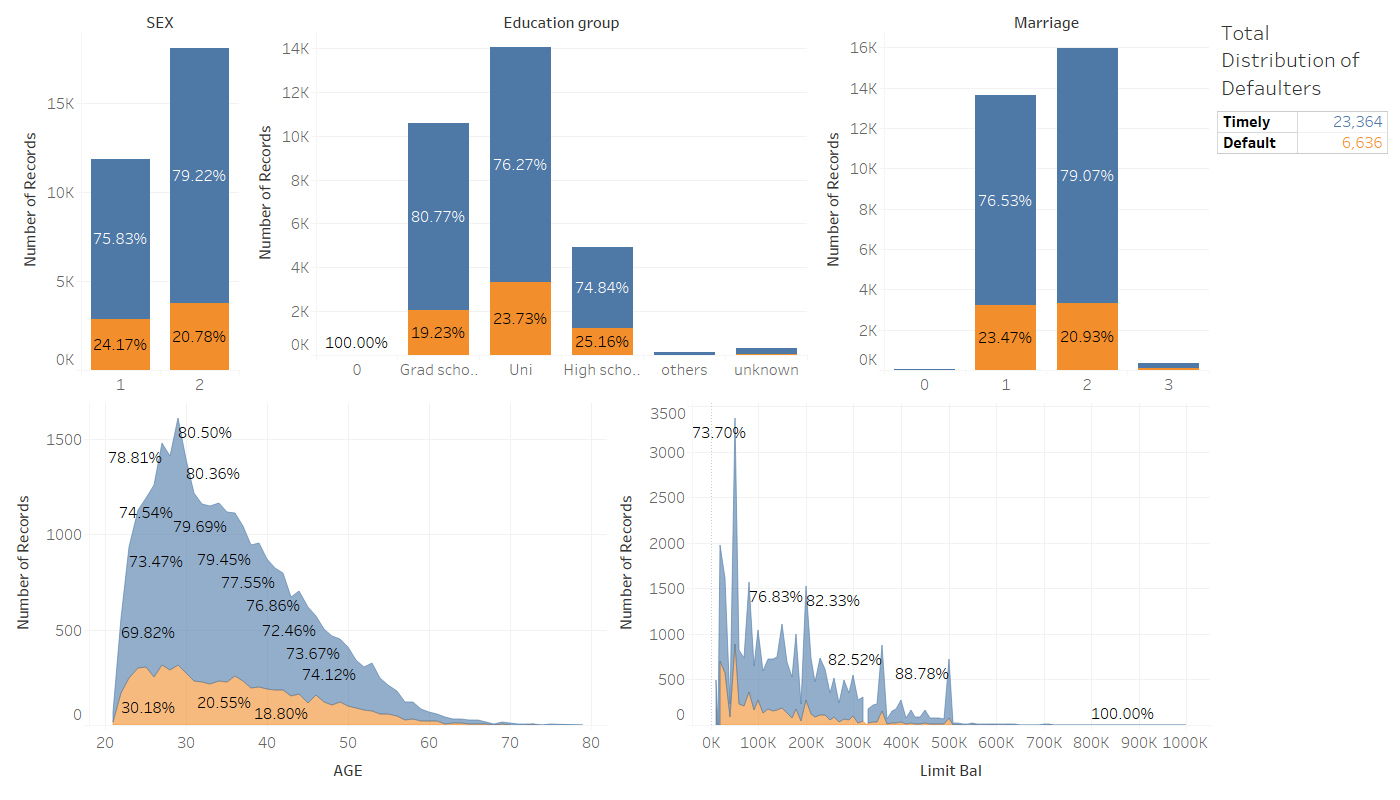

What the dashboard file says about the page in this screenshot:
{"tool":"tableau","page":{"name":"Distribution","canvas":[1400,800],"ordinal":1},"visuals":[{"type":"worksheet","title":"Sheet 34","mark":"Automatic","rows":["Number of Records"],"cols":["SEX"],"box":[8,8,235.3,391.2]},{"type":"worksheet","title":"Sheet 35","mark":"Automatic","rows":["Number of Records"],"cols":["Calculation_674977060939747328"],"box":[243.3,8,568,391.2]},{"type":"worksheet","title":"Sheet 39","mark":"Automatic","rows":["Number of Records"],"cols":["MARRIAGE"],"box":[811.3,8,401.6,391.2]},{"type":"worksheet","title":"Sheet 40","mark":"Automatic","rows":["default.payment.next.month"],"box":[1213,8,179,150]},{"type":"worksheet","title":"Sheet 37","mark":"Area","rows":["Number of Records"],"cols":["AGE"],"box":[8,399.2,602.5,392.8]},{"type":"worksheet","title":"Sheet 38","mark":"Area","rows":["Number of Records"],"cols":["LIMIT_BAL"],"box":[610.5,399.2,602.5,392.8]}]}

Visuals, with their boxes in screenshot pixels (x1, y1, x2, y2), scaled from the page's 1400x800 canvas onto the 1400x800 screenshot:
"Sheet 34" worksheet: BBox(8, 8, 243, 399)
"Sheet 35" worksheet: BBox(243, 8, 811, 399)
"Sheet 39" worksheet: BBox(811, 8, 1213, 399)
"Sheet 40" worksheet: BBox(1213, 8, 1392, 158)
"Sheet 37" worksheet (Area marks): BBox(8, 399, 610, 792)
"Sheet 38" worksheet (Area marks): BBox(610, 399, 1213, 792)
